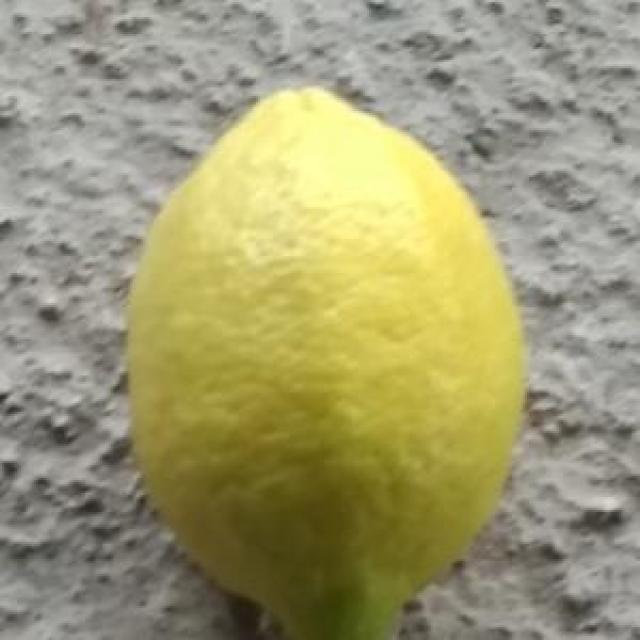lemon: (122, 92, 523, 640)
